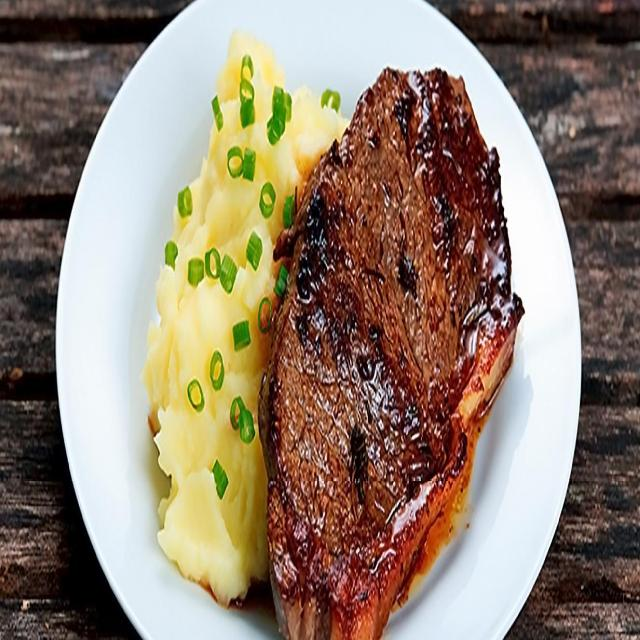carne de res: (264, 61, 527, 640)
papa: (146, 33, 350, 600)
